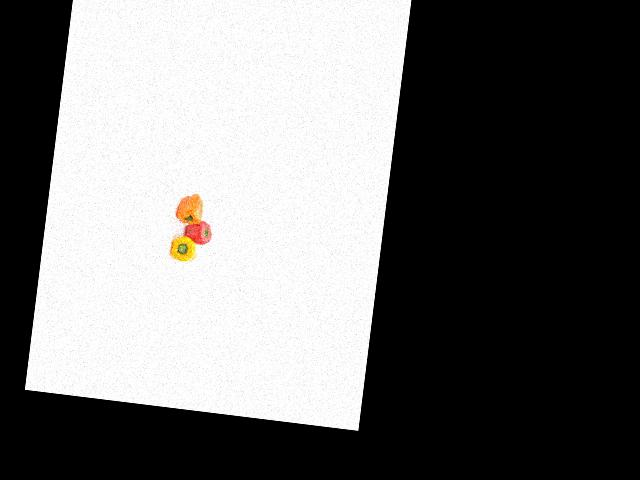bell_pepper: (168, 231, 200, 265)
